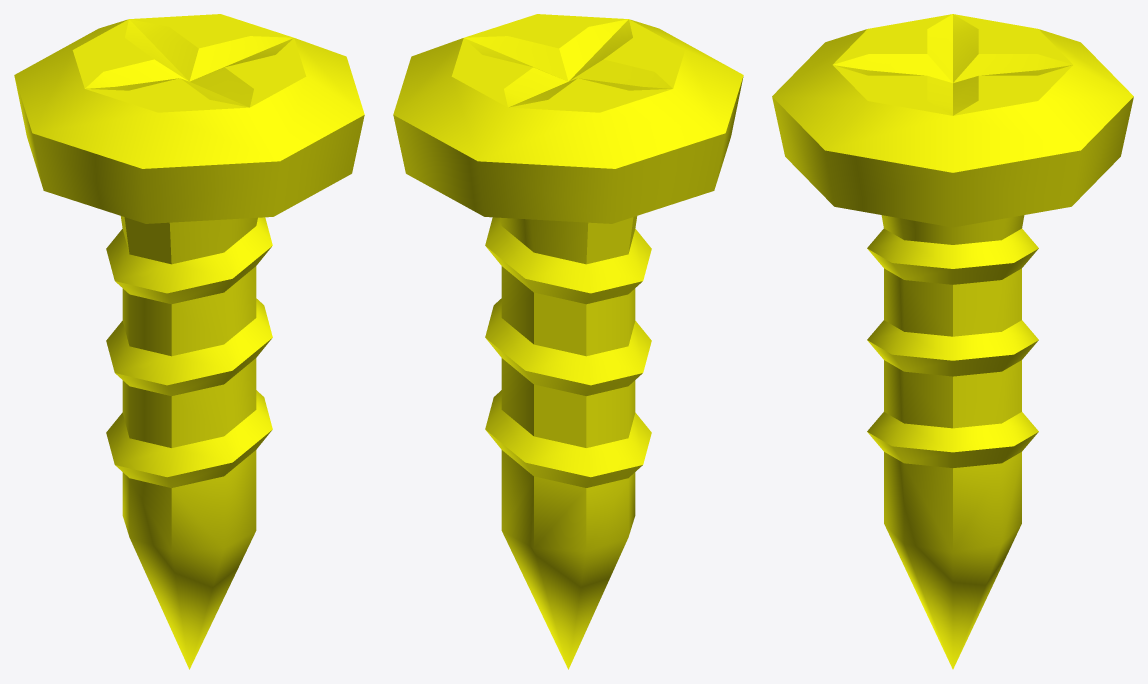
File: kaykit-screw-b.glb
The picture shows the model from 3 angles, left to right: view 1: azimuth 30°, elevation 25°; view 2: azimuth 150°, elevation 25°; view 3: azimuth 270°, elevation 25°; orthographic projection.
Visible parts, largest first — view 1: screw_B; view 2: screw_B; view 3: screw_B.
Boxes of the visible parts, <box> form: screw_B: <box>14,14,364,669</box>; screw_B: <box>393,14,743,669</box>; screw_B: <box>772,14,1133,669</box>.
Bounding box in the file's own units: 0.1589 × 0.2931 × 0.1589.
